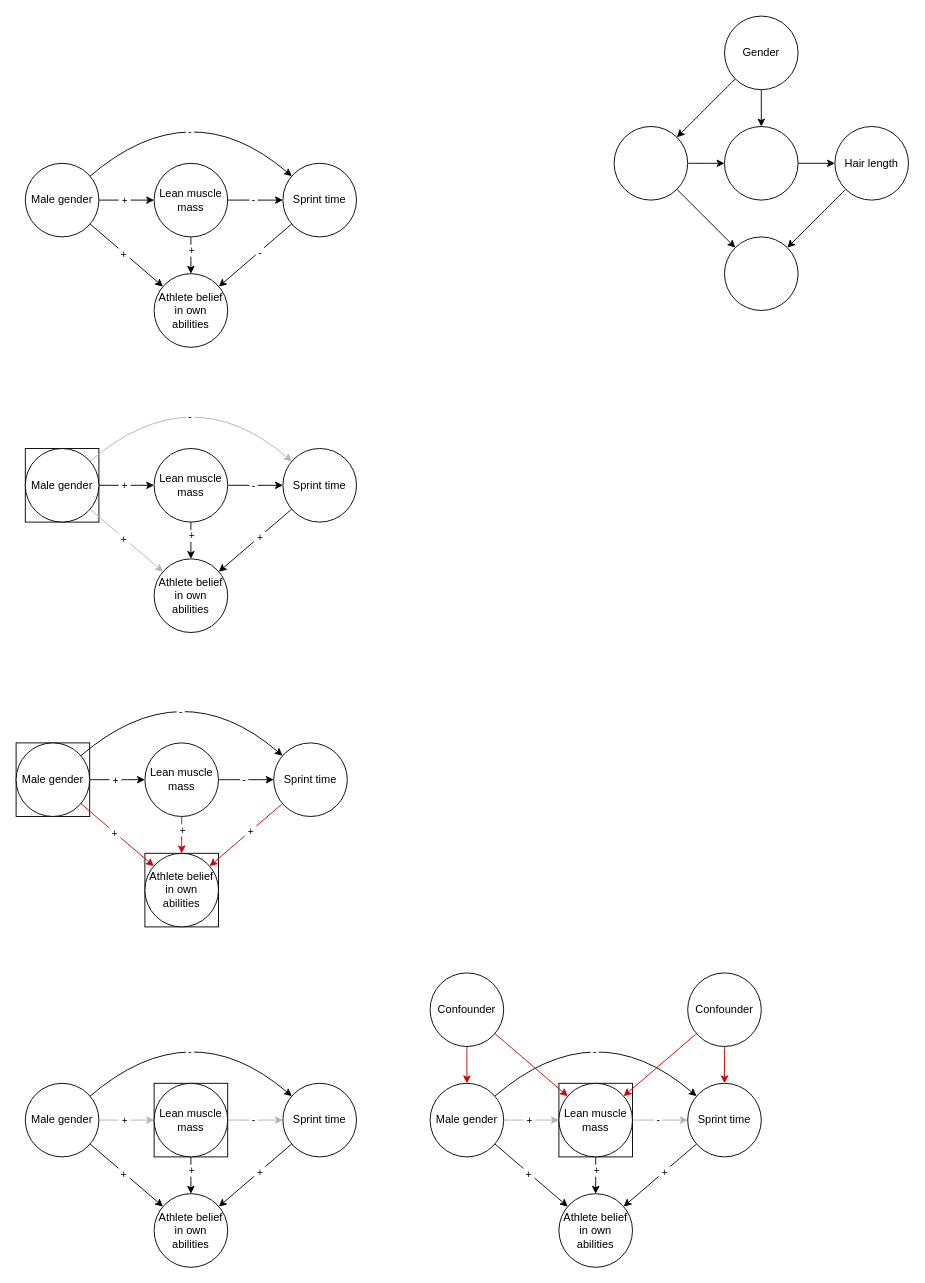
Image size: 925x1283. Some labels were removed from this diagram. The shapes that lost their labels are listed below. From the top down, each one's centre as x and y in pixels, then its label:
At (x=650, y=163): "Height".
At (x=761, y=163): "Preferred hair style".
At (x=761, y=273): "Attractiveness".
